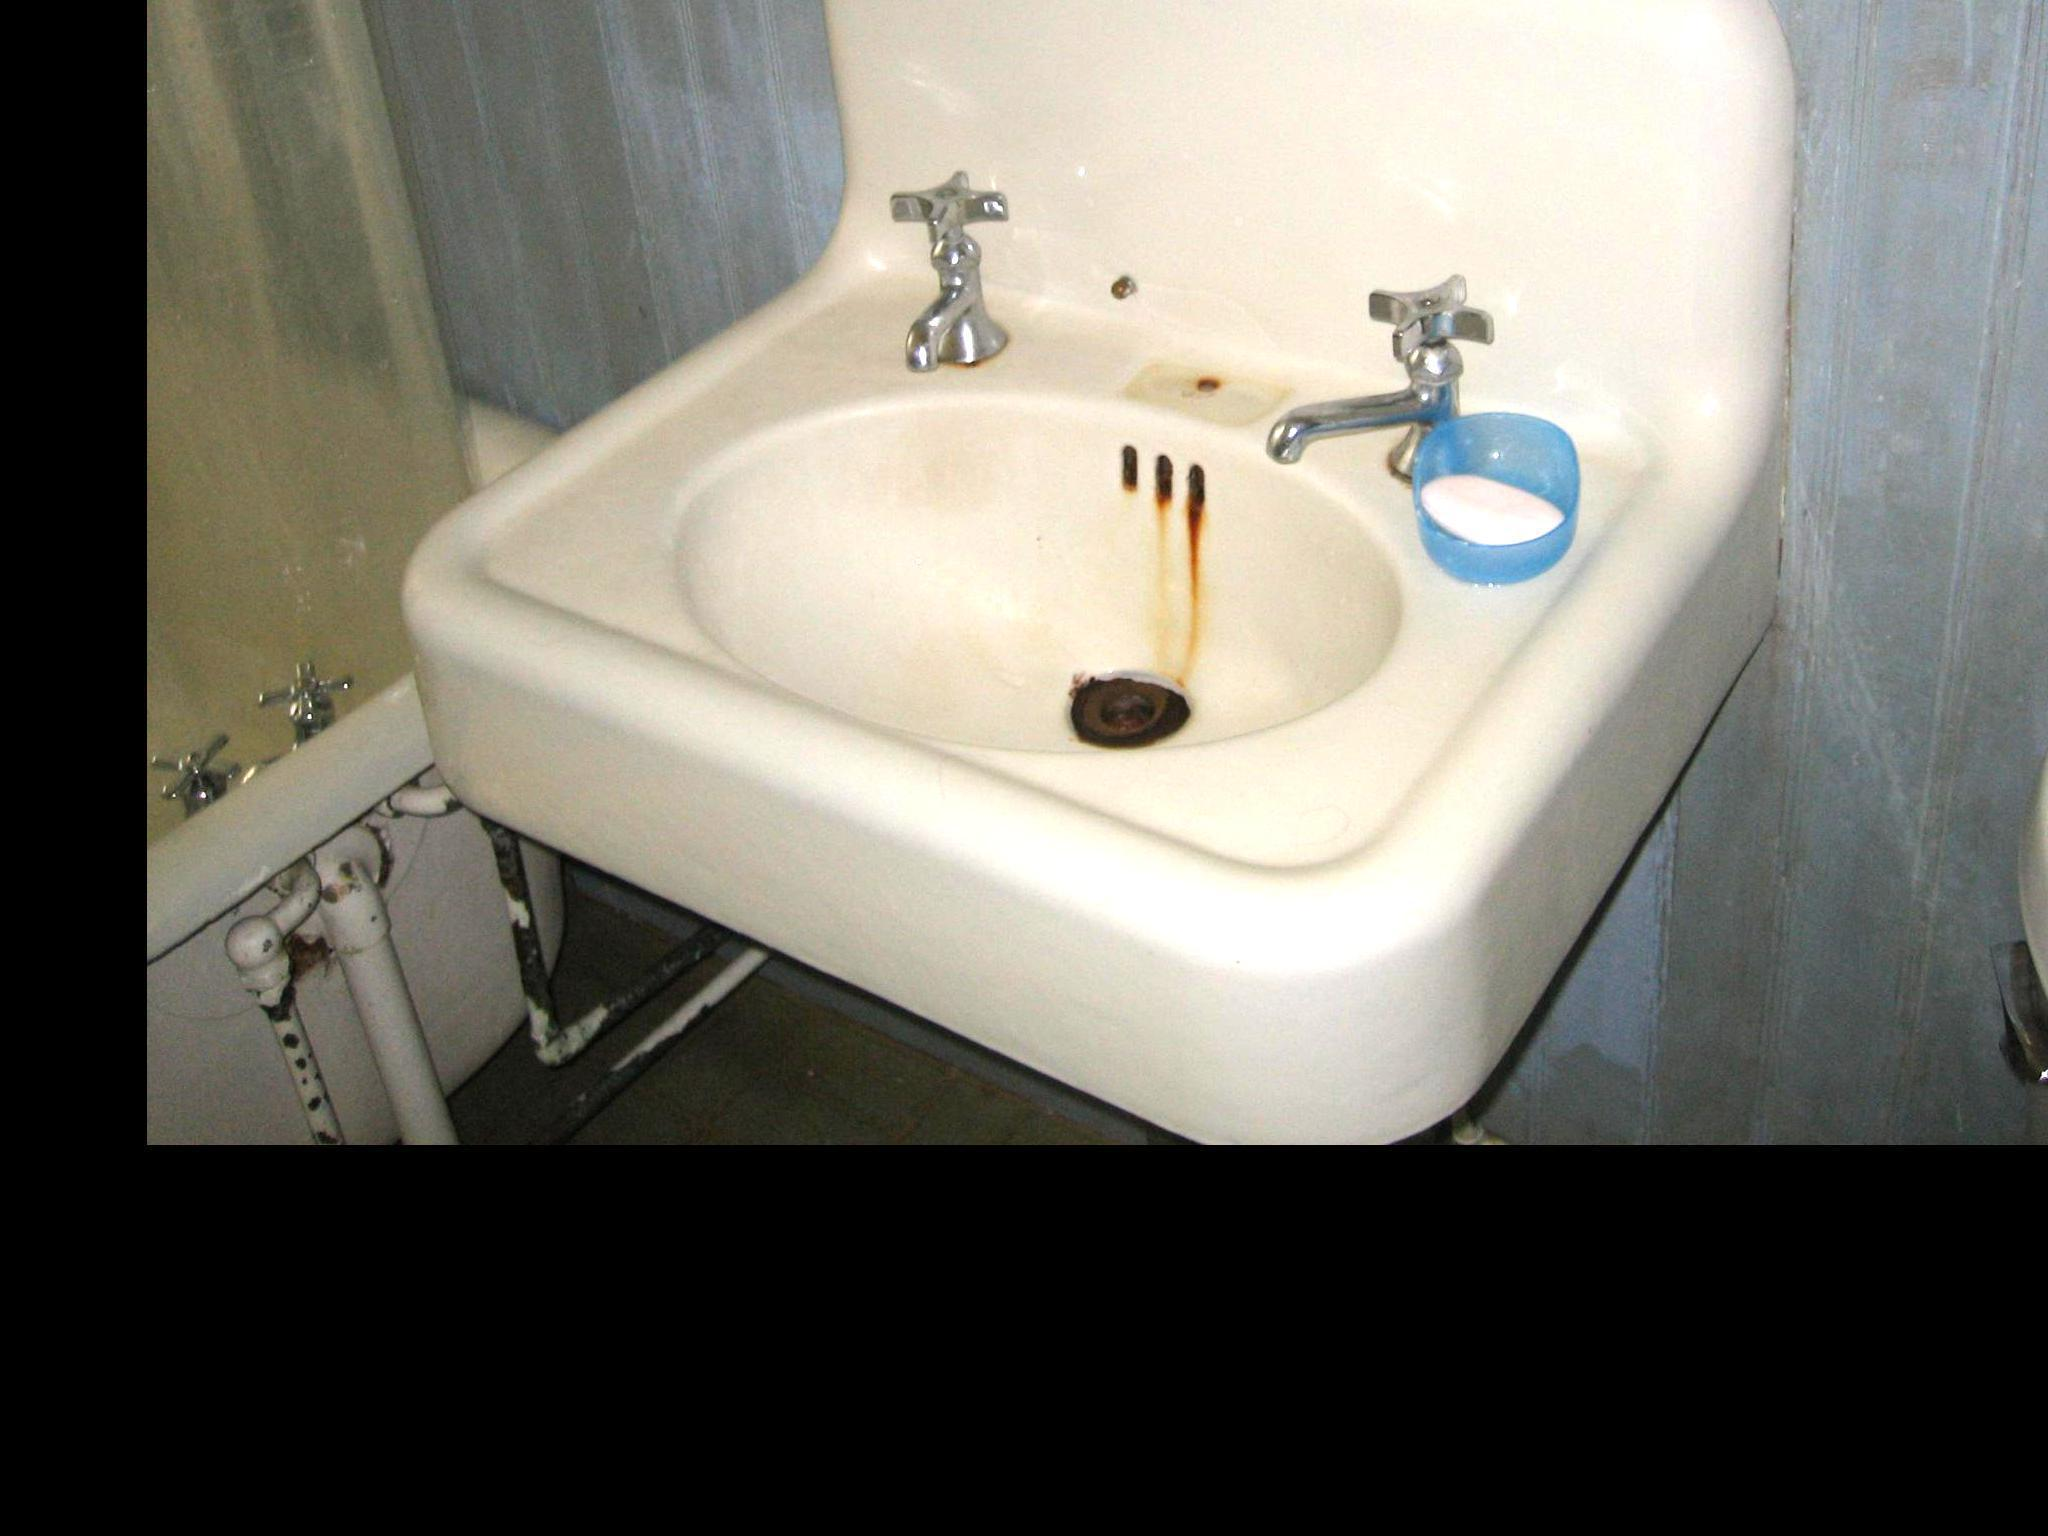Lavamanos: (418, 0, 1943, 1021)
